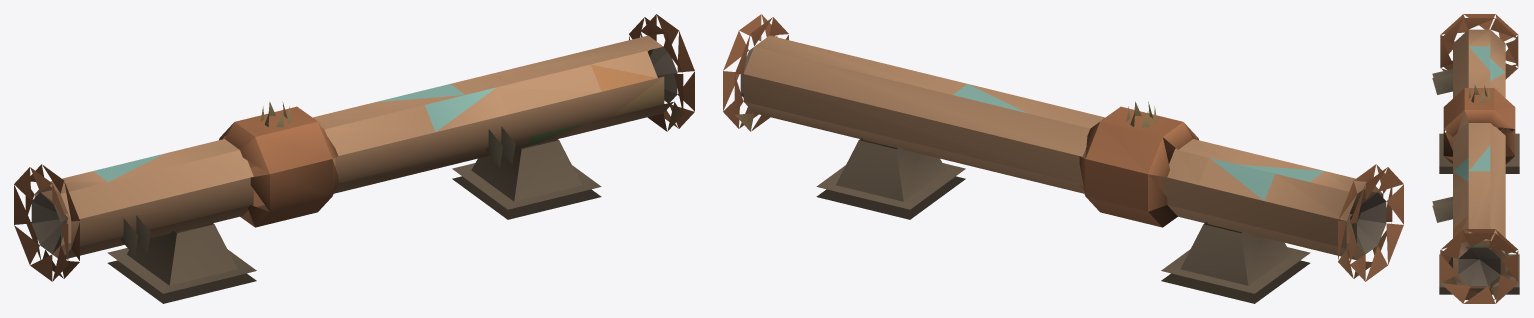
Rendered from pipe.lod.glb.
3 views of the same model, side by side, from view 1: azimuth 30°, elevation 25°; view 2: azimuth 150°, elevation 25°; view 3: azimuth 270°, elevation 25° (orthographic). The views are drawn at different scales.
Visible parts, largest first — view 1: pipe; view 2: pipe; view 3: pipe.
Boxes of the visible parts, x1,y1,x2,y2 form: pipe: (14,14,694,303); pipe: (723,14,1403,303); pipe: (1432,14,1519,303).
Size of the model in its own units: 4 by 0.8742 by 0.6735.
